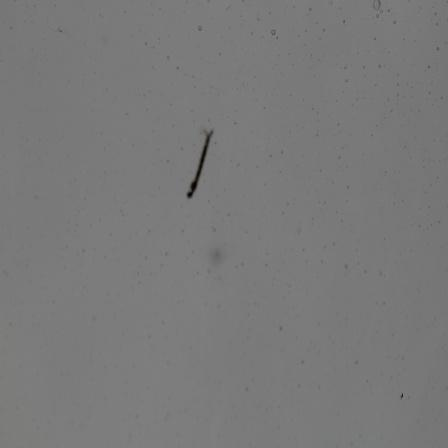Jentik-Nyamuk: (182, 124, 217, 202)
